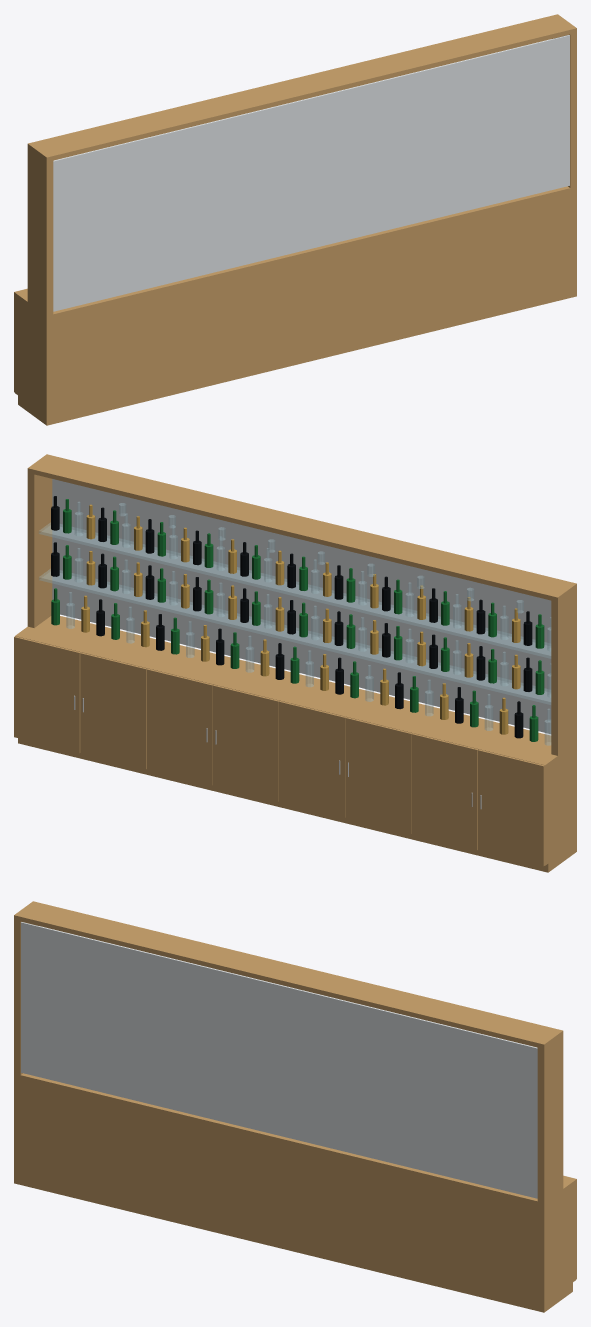
Rendered from hospitality.pub.back_bar_long.glb.
The picture shows the model from 3 angles, top to bottom: view 1: azimuth 30°, elevation 25°; view 2: azimuth 150°, elevation 25°; view 3: azimuth 330°, elevation 25°; orthographic projection.
Visible parts, largest first — view 1: carcass__glulam, carcass__mirror; view 2: carcass__glulam, carcass__mirror, stock__glass, stock__plastic_green, stock__glass_dark, stock__brass; view 3: carcass__glulam, carcass__mirror.
Boxes of the visible parts, bbox=[...] form: carcass__glulam: bbox=[14, 14, 576, 425]; carcass__mirror: bbox=[53, 35, 569, 311]; carcass__glulam: bbox=[14, 454, 576, 872]; carcass__mirror: bbox=[52, 479, 551, 733]; stock__glass: bbox=[39, 502, 551, 745]; stock__plastic_green: bbox=[51, 499, 544, 741]; stock__glass_dark: bbox=[51, 496, 532, 738]; stock__brass: bbox=[81, 504, 520, 734]; carcass__glulam: bbox=[14, 901, 576, 1312]; carcass__mirror: bbox=[21, 922, 537, 1198].
Size of the model in its own units: 4.8 by 2.32 by 0.54.
